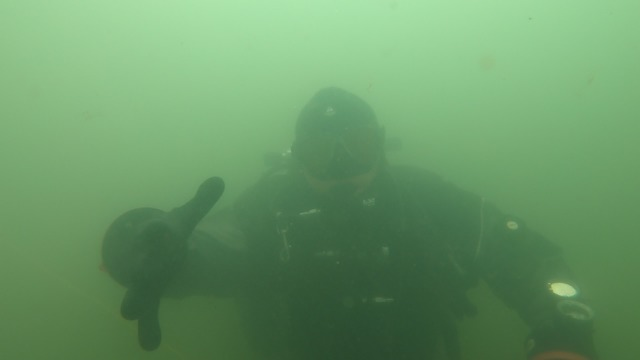Diver: (98, 81, 606, 358)
Hand: (89, 190, 238, 345)
Head: (289, 80, 403, 235)
